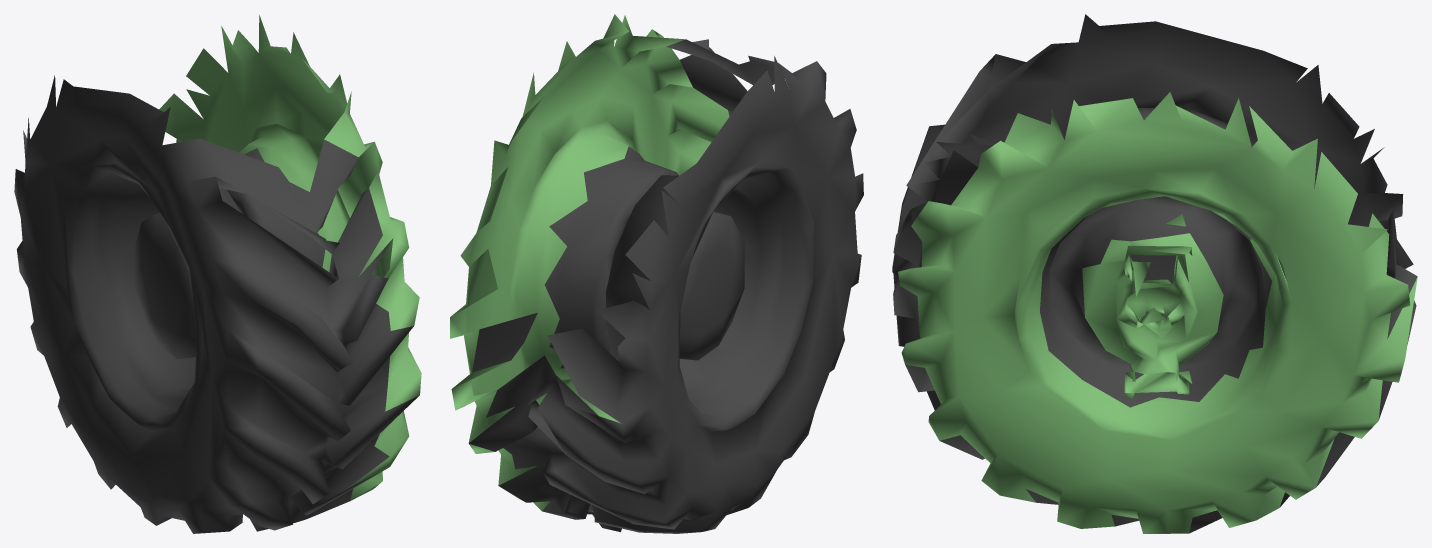
Rendered from john-deere-8r.roueg.glb.
The picture shows the model from 3 angles, left to right: view 1: azimuth 30°, elevation 25°; view 2: azimuth 150°, elevation 25°; view 3: azimuth 270°, elevation 25°; orthographic projection. The views are drawn at different scales.
Bounding box in the file's own units: 0.8365 × 1.57 × 1.62.
